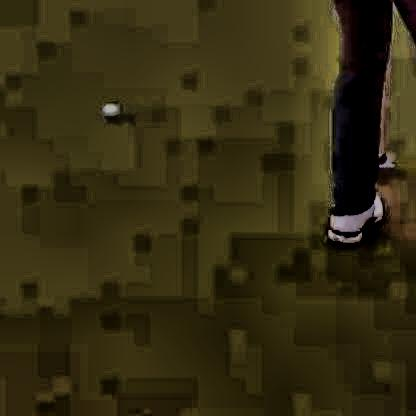golfball: (101, 98, 119, 117)
